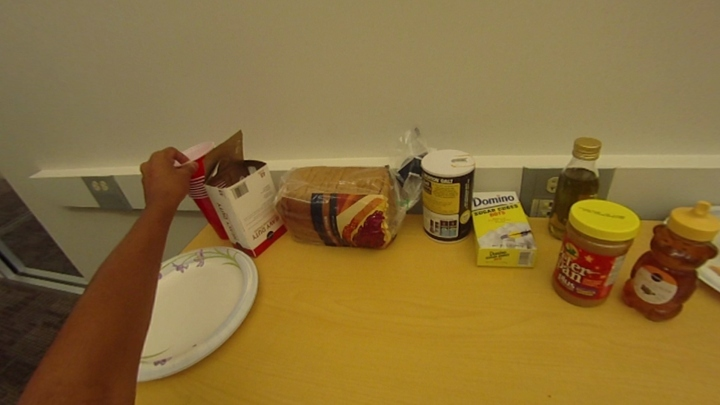hand: (133, 144, 196, 205)
